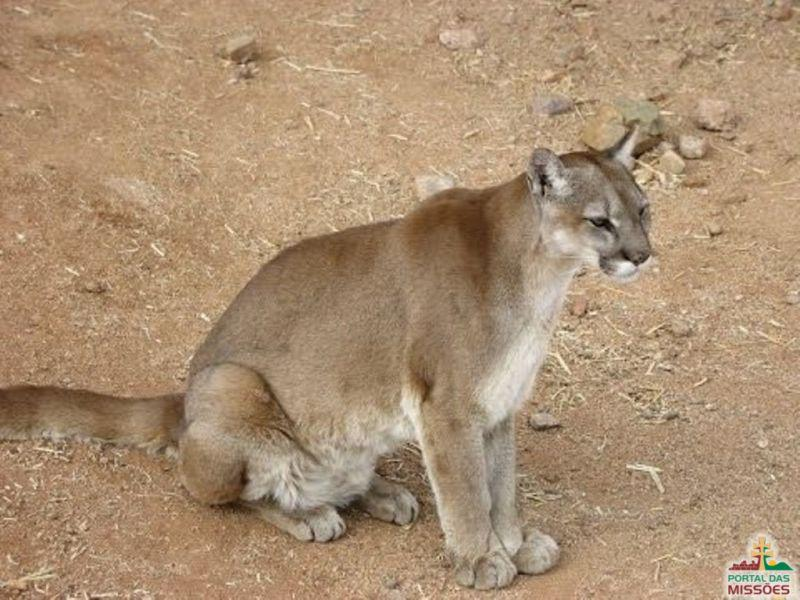OncaParda: (18, 121, 659, 591)
